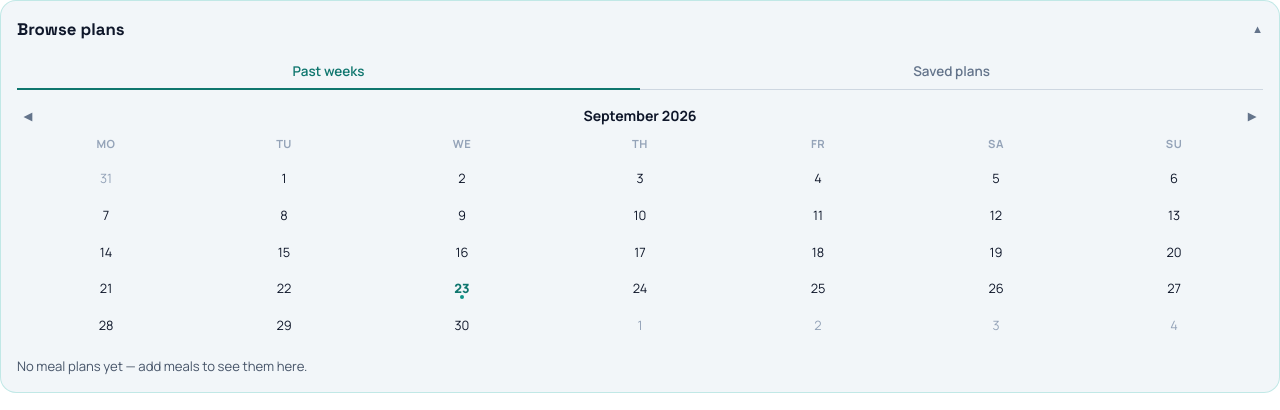
Test: GroceryPlanBrowser › can still be manually collapsed via the toggle button
Expected: the tab "Past weeks" is shown, [17, 54, 640, 90]
Click the button "Browse plans ▲".
click(71, 29)  # box [17, 17, 1263, 42]
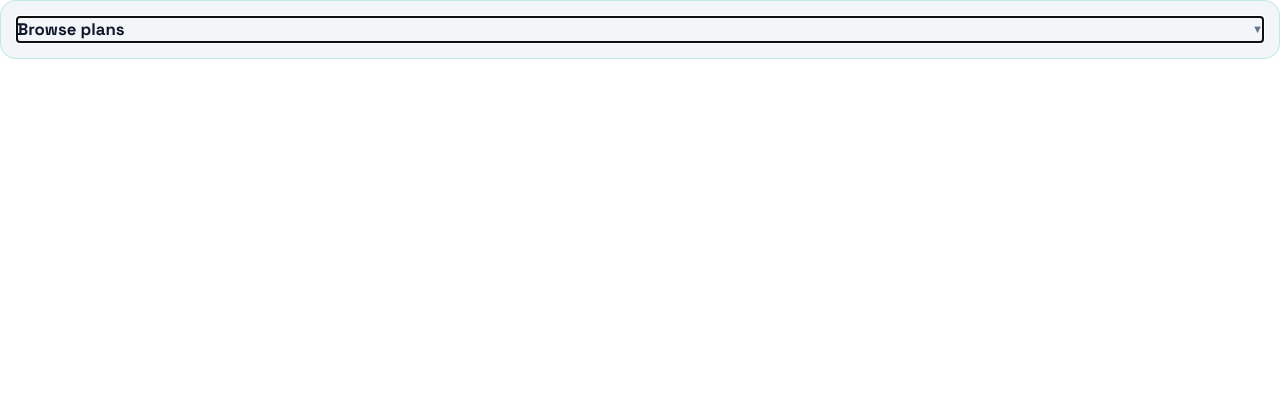
Now the tab "Past weeks" is gone
Now the button "Browse plans ▼" is collapsed, box [17, 17, 1263, 42]
